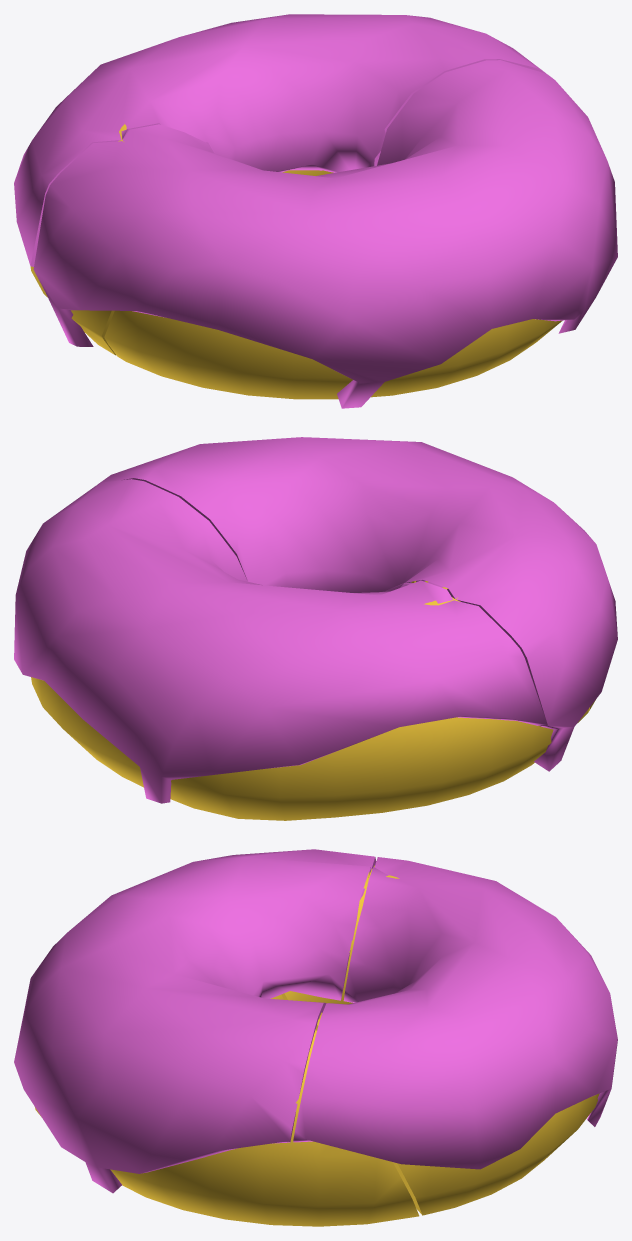
The model's file is donut.fbx.
3 views of the same model, one above another, from view 1: azimuth 30°, elevation 25°; view 2: azimuth 150°, elevation 25°; view 3: azimuth 270°, elevation 25° (orthographic).
Parts seen in each view (by area): view 1: icing_cell.001, icing_cell, donut_cell.001, donut_cell; view 2: icing_cell, icing_cell.001, donut_cell; view 3: icing_cell.001, icing_cell, donut_cell.001, donut_cell.
Boxes of the visible parts, bbox=[...] form: icing_cell.001: bbox=[33, 60, 617, 408]; icing_cell: bbox=[14, 14, 545, 266]; donut_cell.001: bbox=[104, 310, 562, 399]; donut_cell: bbox=[30, 124, 333, 355]; icing_cell: bbox=[14, 479, 547, 803]; icing_cell.001: bbox=[97, 437, 617, 771]; donut_cell: bbox=[31, 581, 588, 820]; icing_cell.001: bbox=[14, 849, 376, 1193]; icing_cell: bbox=[293, 857, 617, 1169]; donut_cell.001: bbox=[35, 994, 419, 1226]; donut_cell: bbox=[281, 865, 599, 1215].
Bounding box in the file's own units: 31.94 × 12.24 × 32.63.
